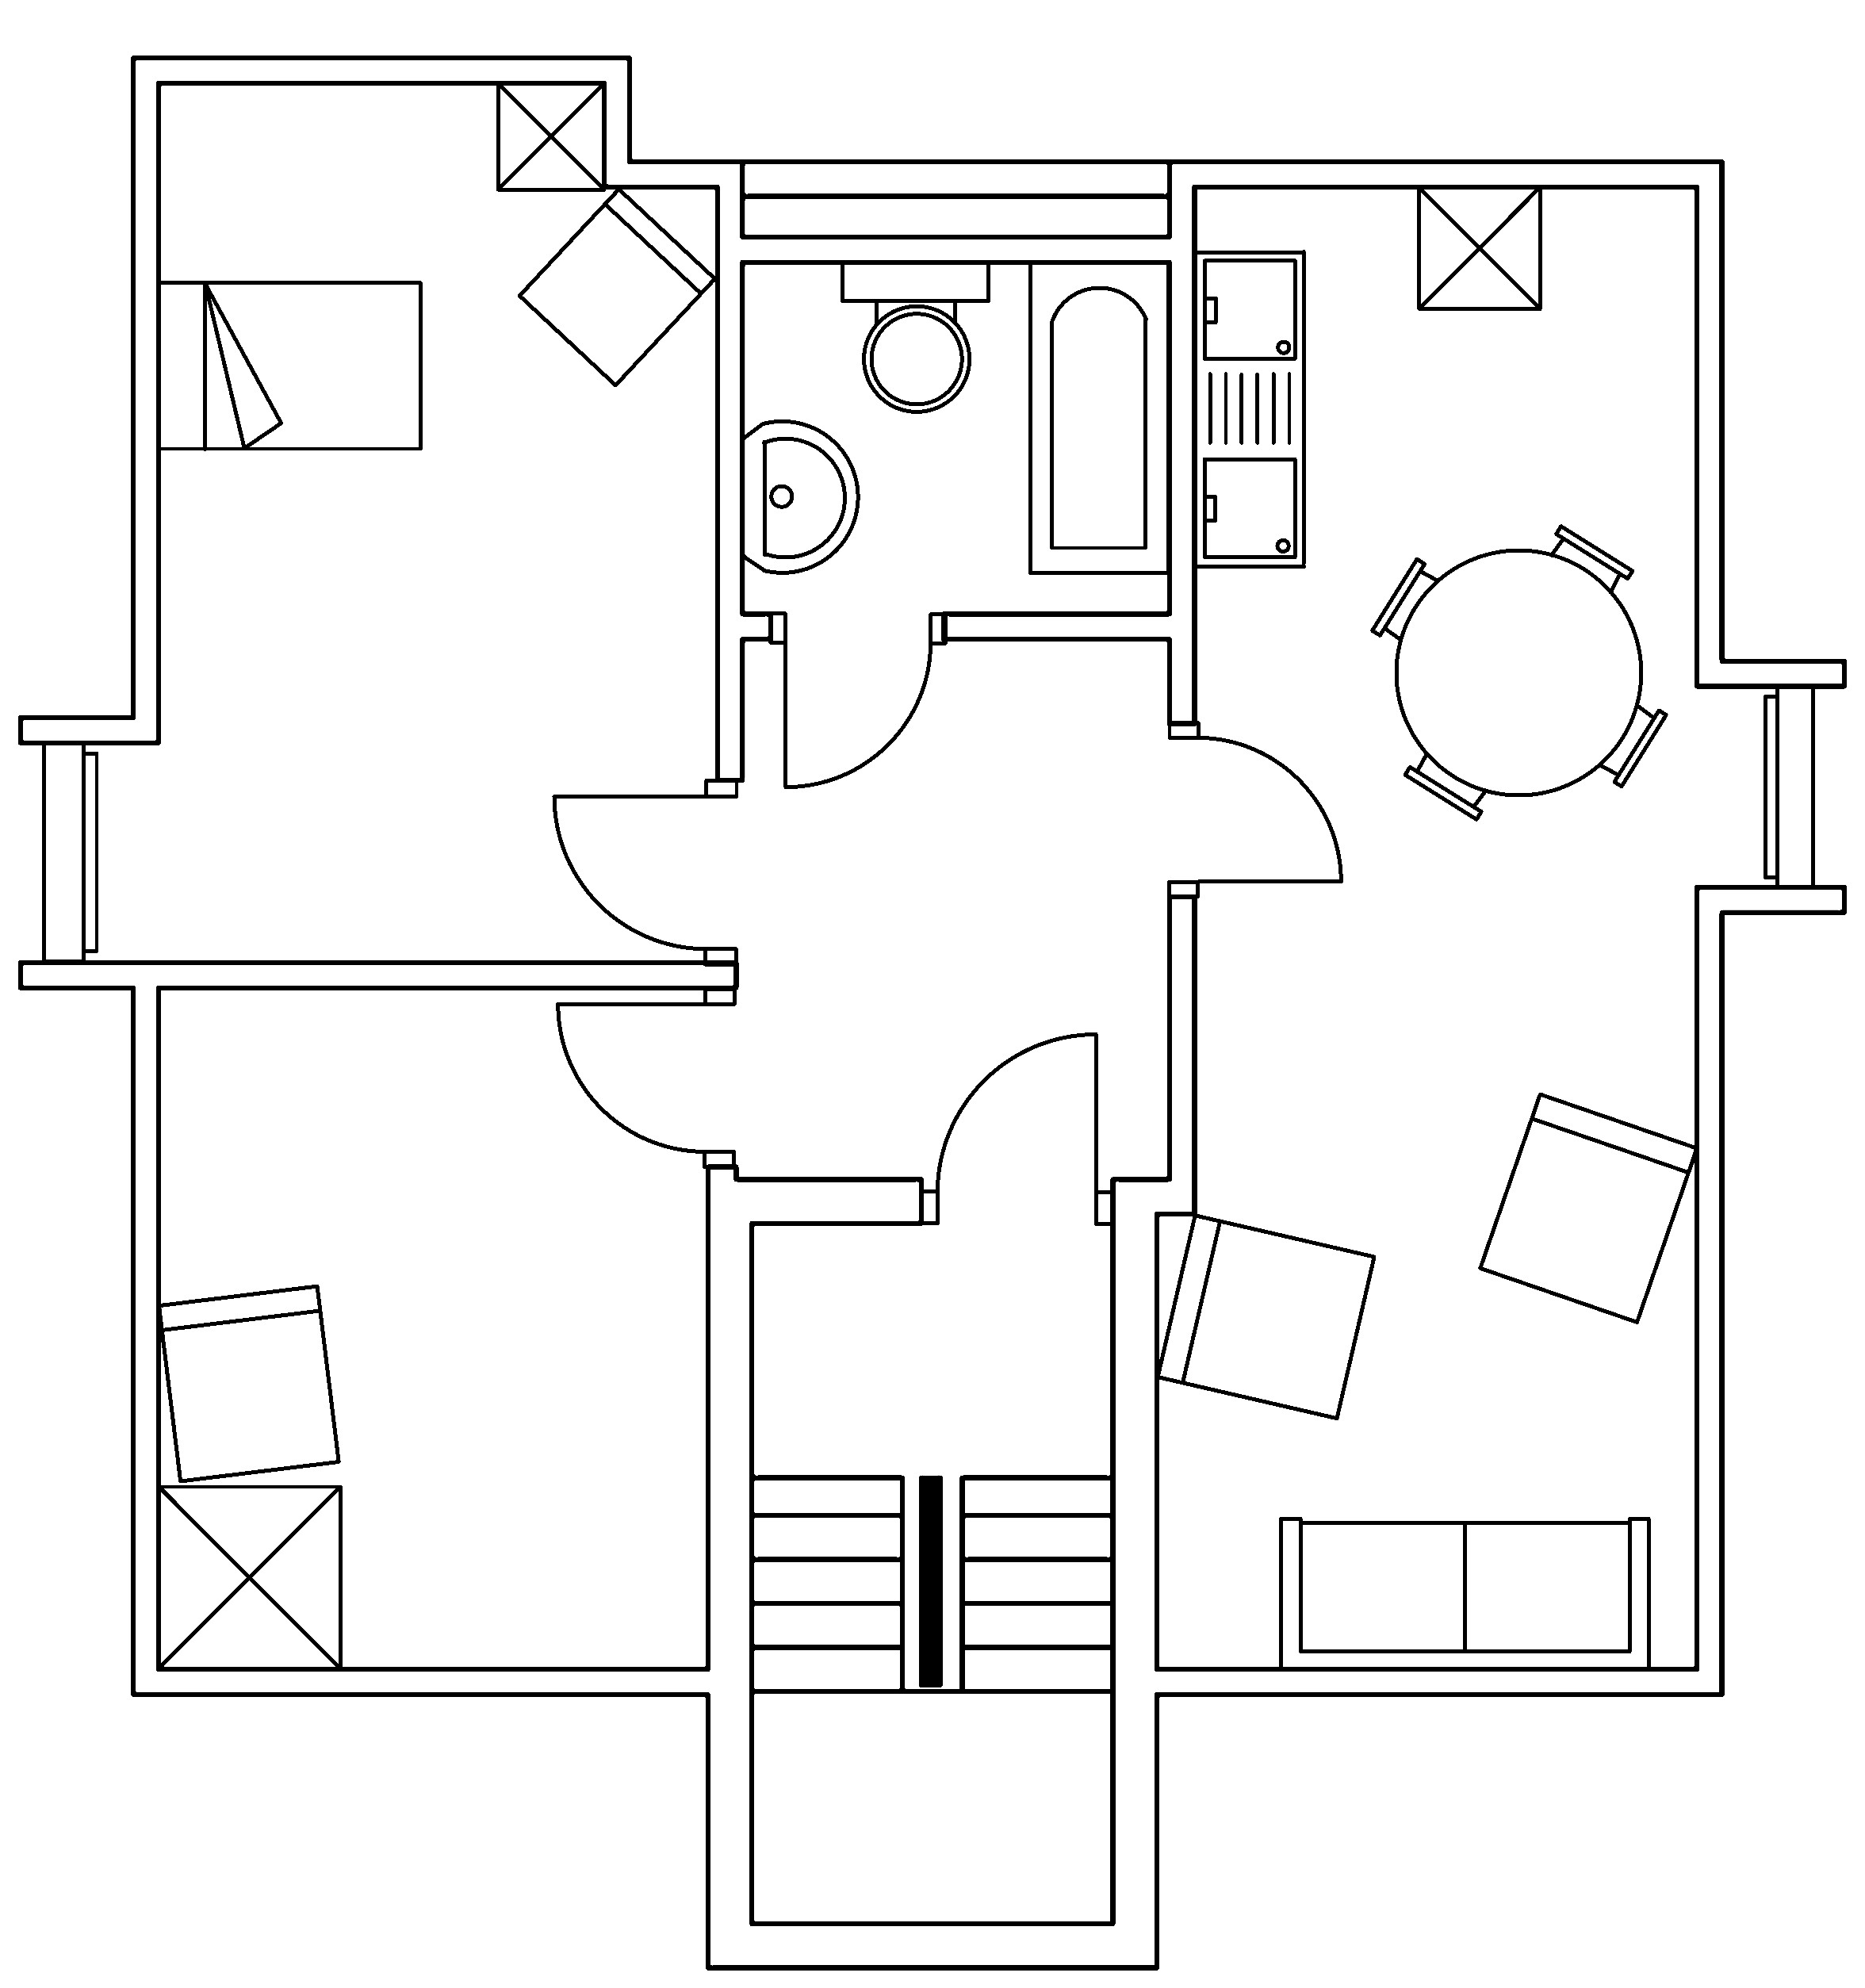bed: (154, 279, 422, 452)
coffee_table: (154, 1481, 342, 1671), (1416, 182, 1542, 310), (494, 79, 606, 191)
large_sink: (840, 258, 990, 412)
large_sofa: (1278, 1515, 1651, 1672)
round_table: (1369, 522, 1669, 822)
small_sink: (740, 419, 859, 573)
small_sofa: (1476, 1090, 1698, 1324), (1153, 1211, 1376, 1420), (515, 186, 717, 387), (156, 1282, 342, 1483)
tub: (1027, 258, 1171, 575)
twin_sink: (1192, 247, 1308, 570)
